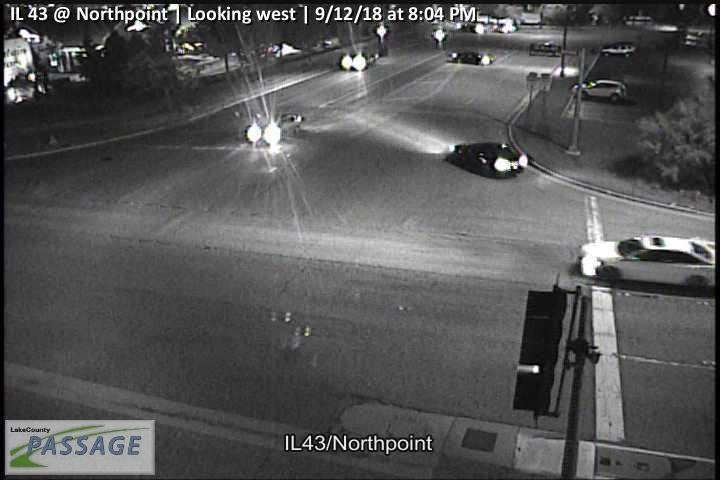SUV: (571, 78, 627, 102), (601, 42, 637, 57)
Sedan: (580, 234, 714, 290), (454, 140, 528, 178), (242, 111, 305, 146), (449, 49, 496, 67), (340, 51, 381, 71)
